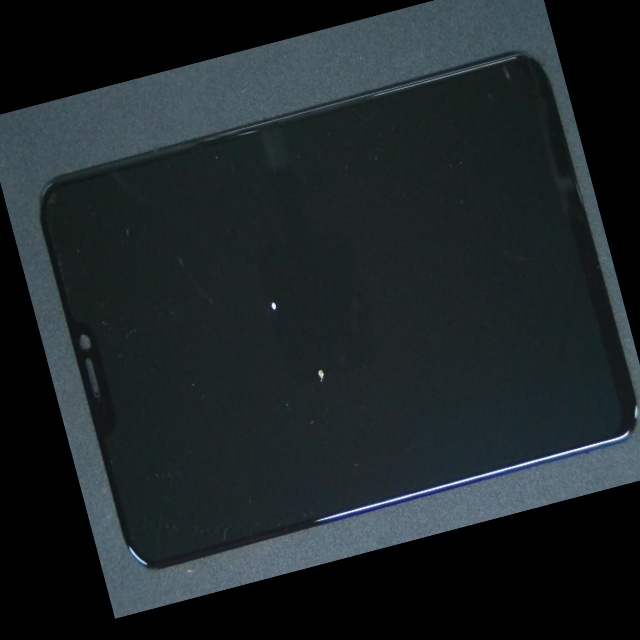stain: (157, 141, 480, 524), (136, 125, 415, 402)
